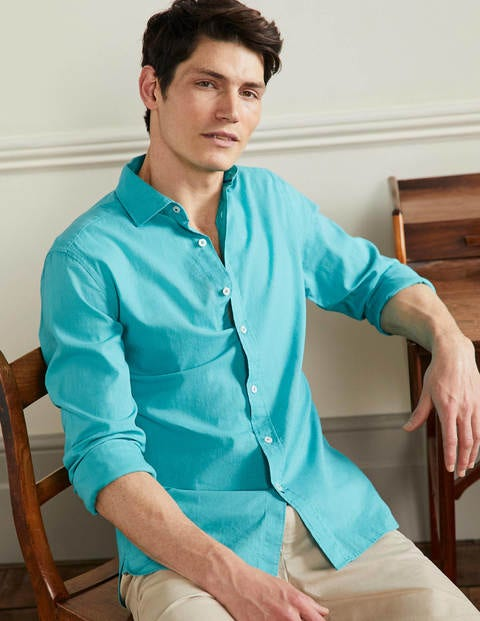long-sleeved official shirt: (37, 157, 472, 567)
